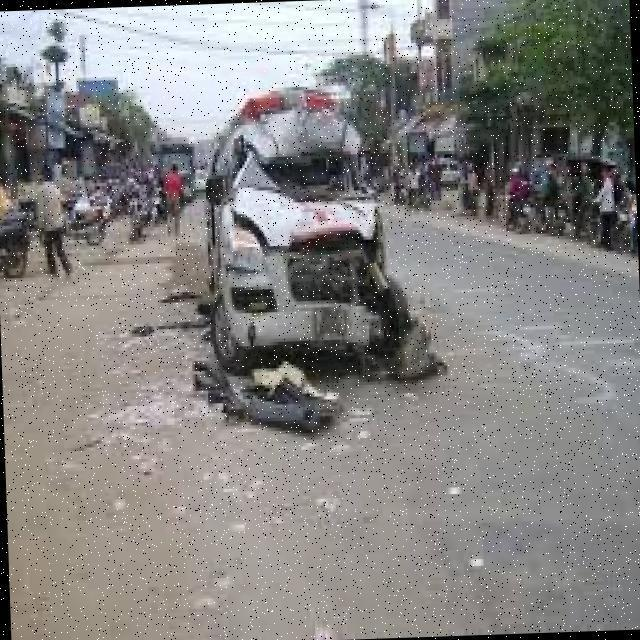accident: (161, 46, 453, 446)
